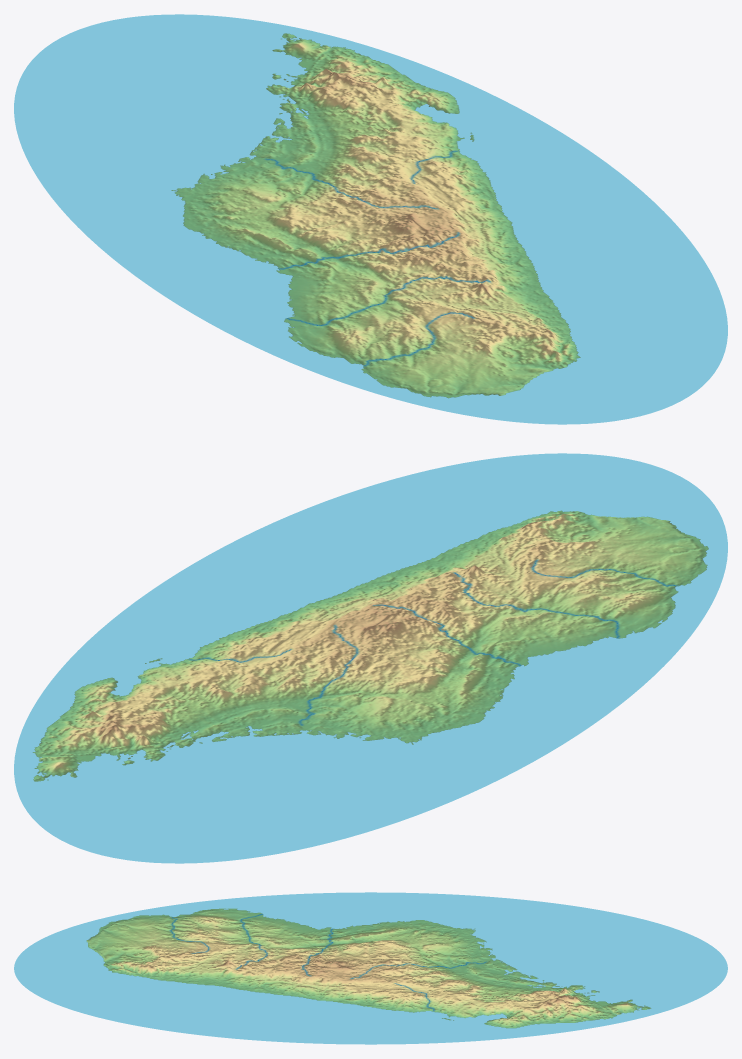
Rendered from MDG-terrain.glb.
The picture shows the model from 3 angles, top to bottom: view 1: azimuth 30°, elevation 25°; view 2: azimuth 150°, elevation 25°; view 3: azimuth 270°, elevation 25°; orthographic projection. The views are drawn at different scales.
Visible parts, largest first — view 1: Relevo com hidrografia; view 2: Relevo com hidrografia; view 3: Relevo com hidrografia.
Part boxes in pixels (<box>): Relevo com hidrografia: <box>14,14,727,424</box>; Relevo com hidrografia: <box>14,453,727,863</box>; Relevo com hidrografia: <box>14,892,727,1044</box>.
Bounding box in the file's own units: 1.02 × 0.0284 × 2.03.
2 materials, 1 textured.
